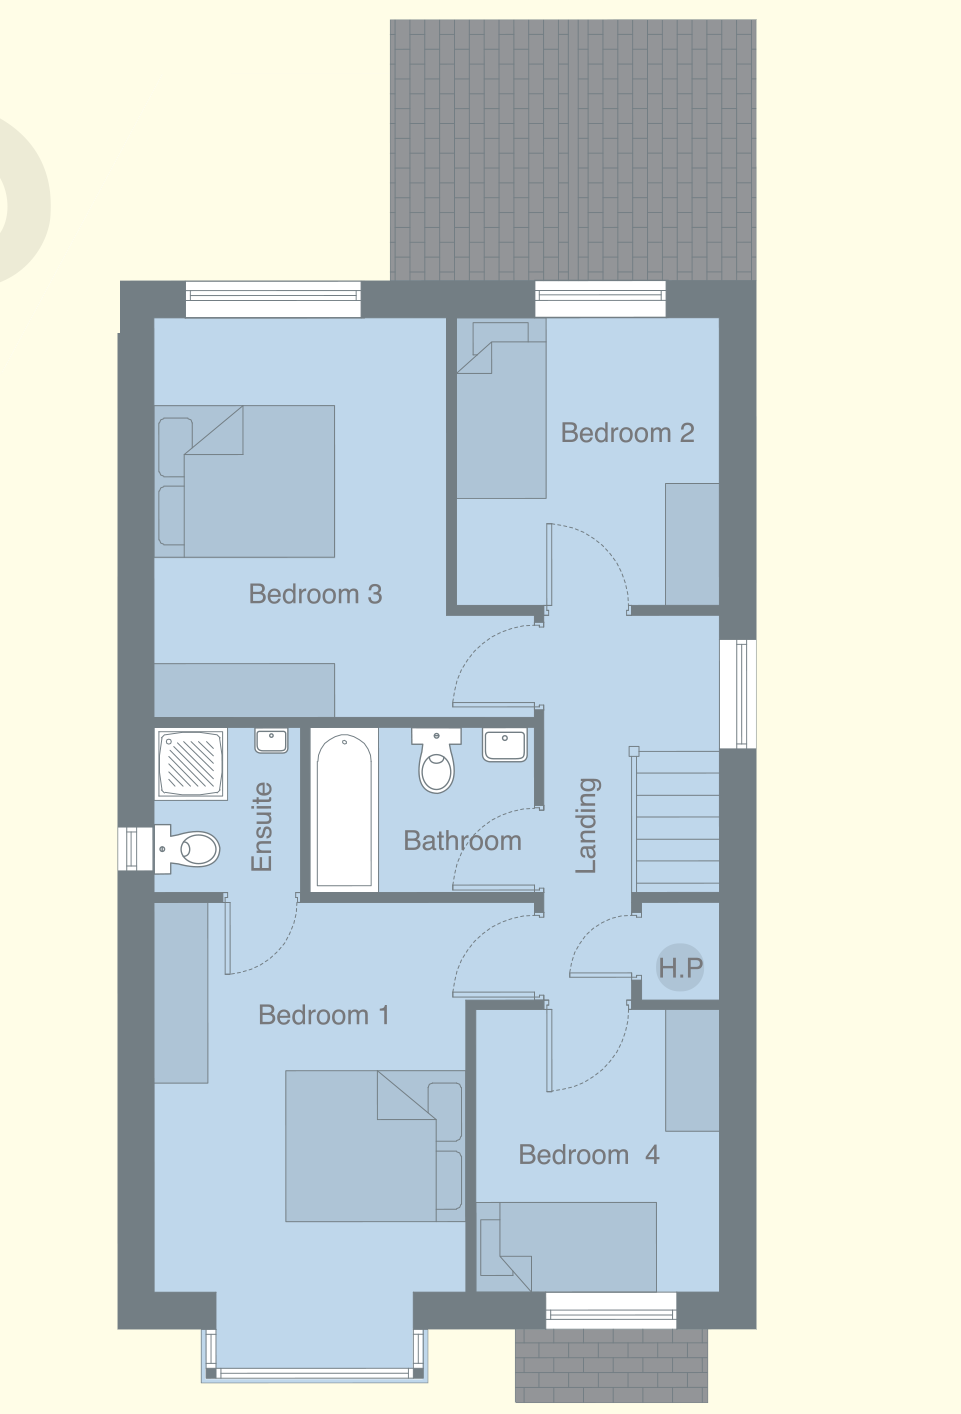room: (122, 281, 550, 726), (110, 889, 472, 1328), (446, 280, 752, 628), (465, 994, 757, 1330), (296, 717, 546, 904)
